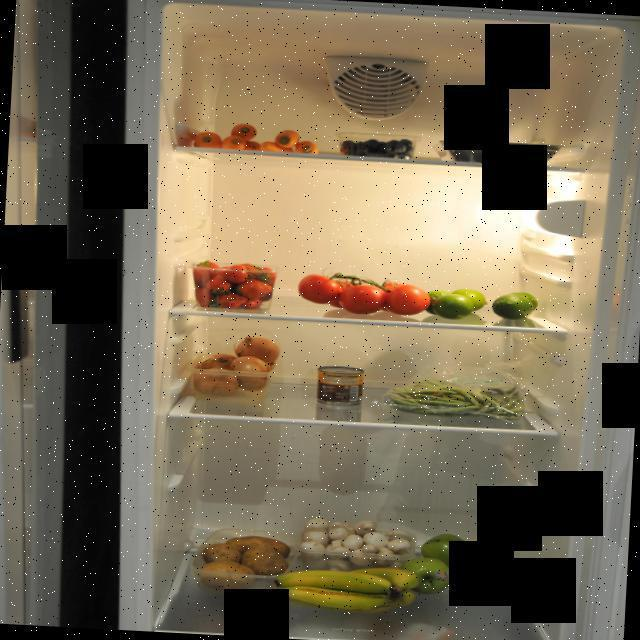apple: (400, 528, 513, 600)
banana: (274, 563, 419, 617)
blueberries: (333, 130, 422, 160)
carrot: (186, 114, 328, 162)
corn: (316, 365, 366, 406)
green_beans: (380, 356, 540, 428)
lime: (421, 286, 541, 324)
mushrooms: (296, 514, 421, 578)
onion: (188, 332, 282, 406)
potato: (200, 522, 296, 590)
strawberries: (190, 258, 280, 315)
tomato: (293, 266, 434, 322)
